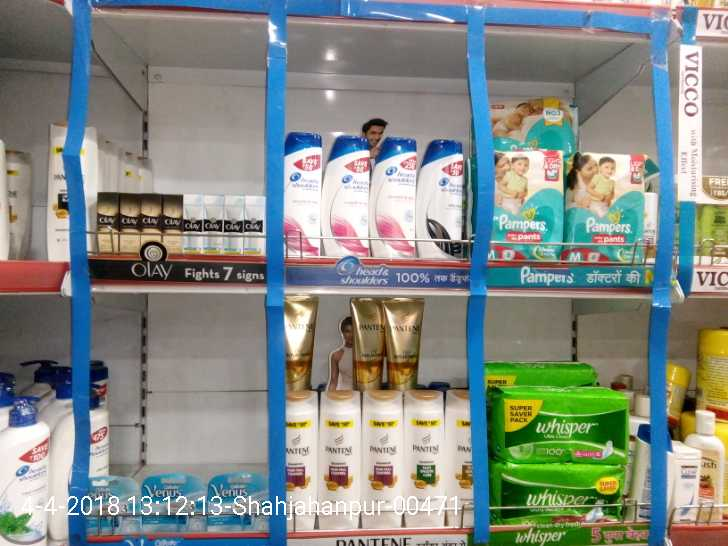venus: (84, 475, 144, 535), (144, 475, 208, 531), (208, 471, 266, 531)
